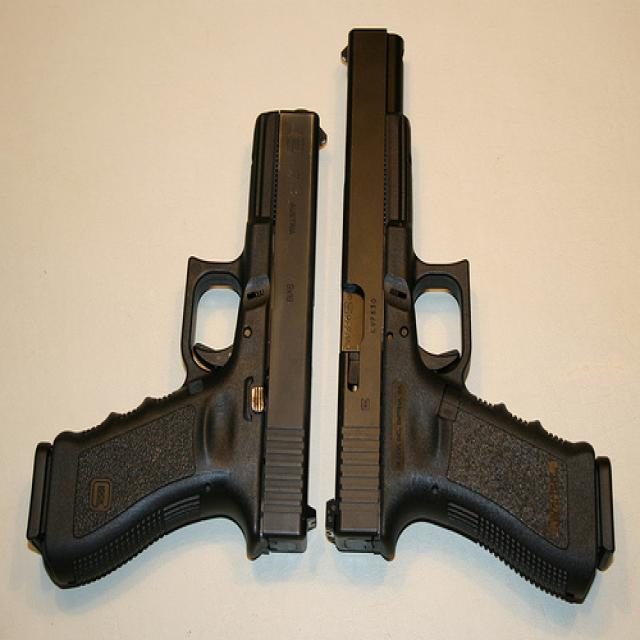gun: (322, 24, 614, 600), (19, 107, 325, 590)
